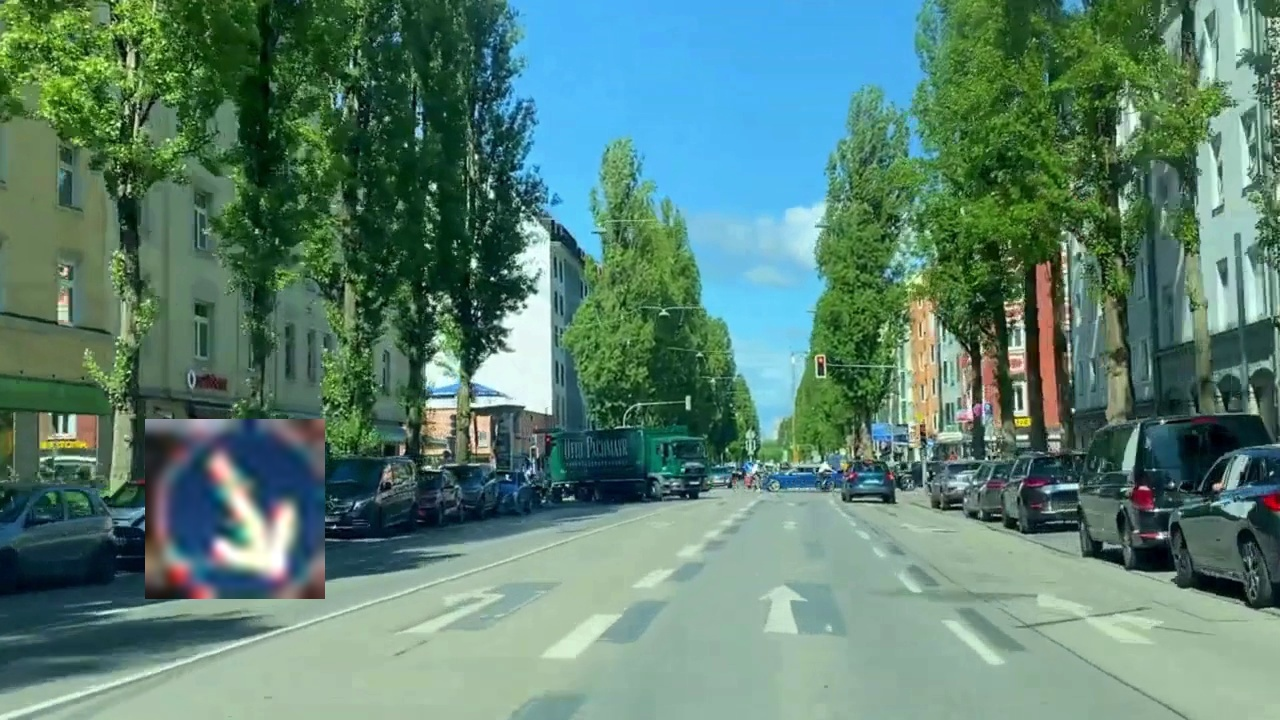Keep right: (145, 419, 325, 599)
